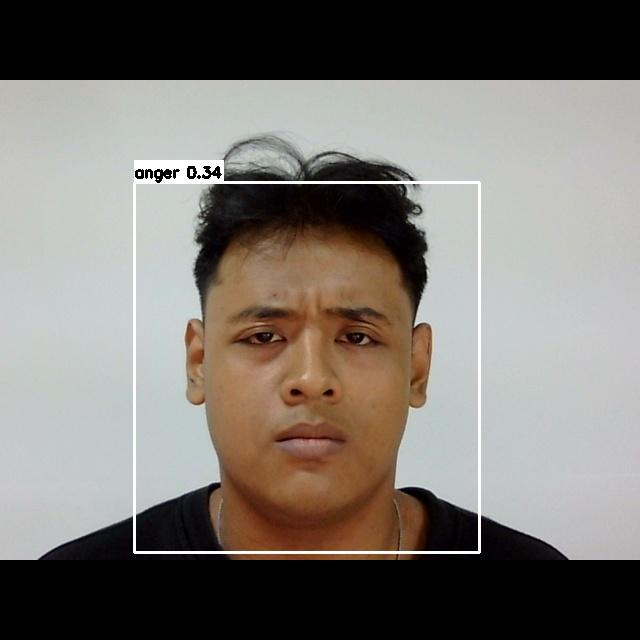Angry: (188, 274, 430, 484)
